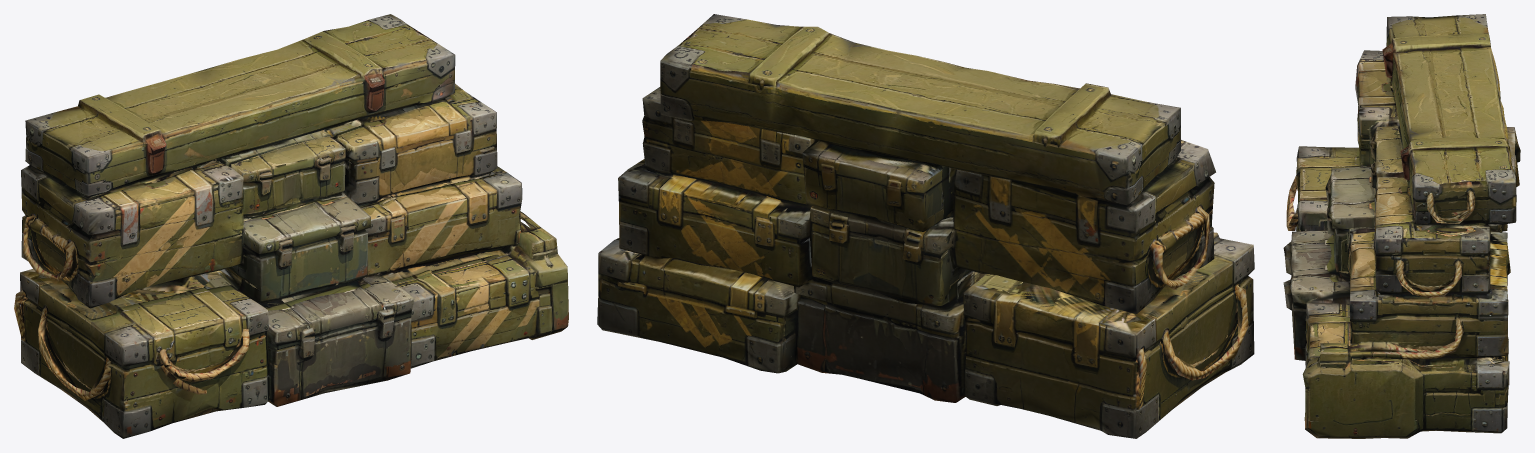
The model's file is EX_Mil_AmmoCrates.fbx.
3 renders of one model, left to right at view 1: azimuth 30°, elevation 25°; view 2: azimuth 150°, elevation 25°; view 3: azimuth 270°, elevation 25°, orthographic. The views are drawn at different scales.
Parts seen in each view (by area): view 1: texture_mapping; view 2: texture_mapping; view 3: texture_mapping.
Boxes of the visible parts, x1,y1,x2,y2 form: texture_mapping: [14, 14, 568, 438]; texture_mapping: [597, 14, 1254, 438]; texture_mapping: [1283, 14, 1520, 438].
Size of the model in its own units: 0.9895 by 0.4798 by 0.5295.
1 material, 1 textured.
